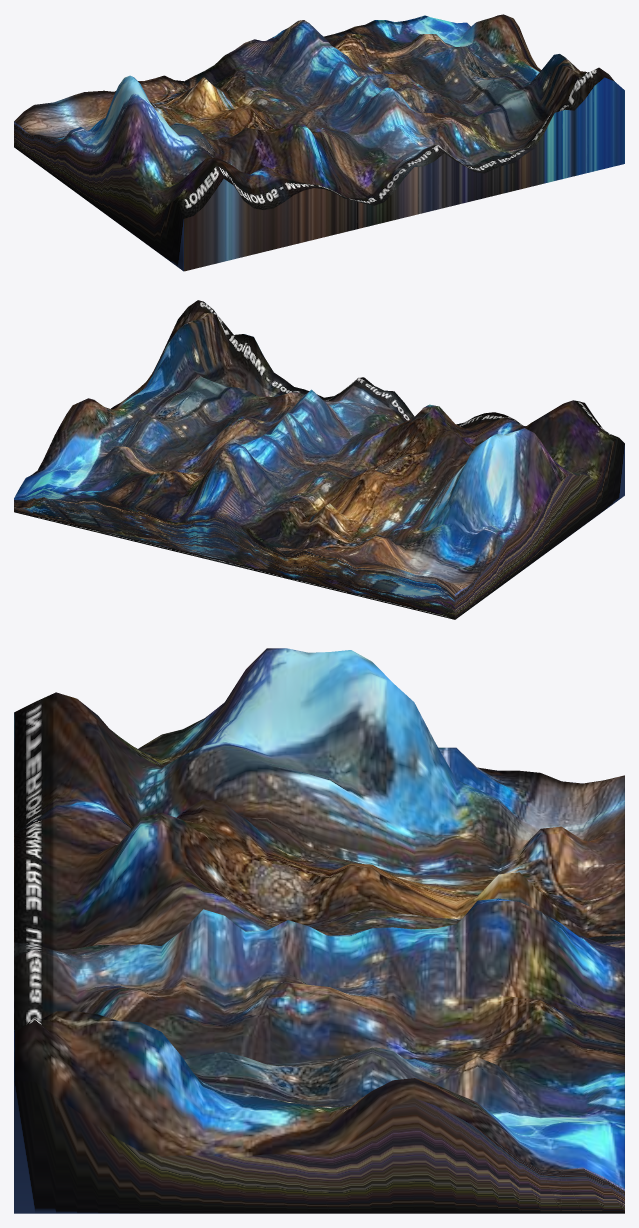
The model's file is TOWER_INT_05_Mana_Tree.glb.
The picture shows the model from 3 angles, top to bottom: view 1: azimuth 30°, elevation 25°; view 2: azimuth 150°, elevation 25°; view 3: azimuth 270°, elevation 25°; orthographic projection. The views are drawn at different scales.
Parts seen in each view (by area): view 1: TOWER_INT_05_Mana_Tree; view 2: TOWER_INT_05_Mana_Tree; view 3: TOWER_INT_05_Mana_Tree.
Part boxes in pixels (left/top/right/bottom): TOWER_INT_05_Mana_Tree: left=14, top=14, right=624, bottom=271; TOWER_INT_05_Mana_Tree: left=14, top=300, right=624, bottom=619; TOWER_INT_05_Mana_Tree: left=14, top=648, right=624, bottom=1213.
Size of the model in its own units: 2 by 0.51 by 1.33.
1 material, 1 textured.
